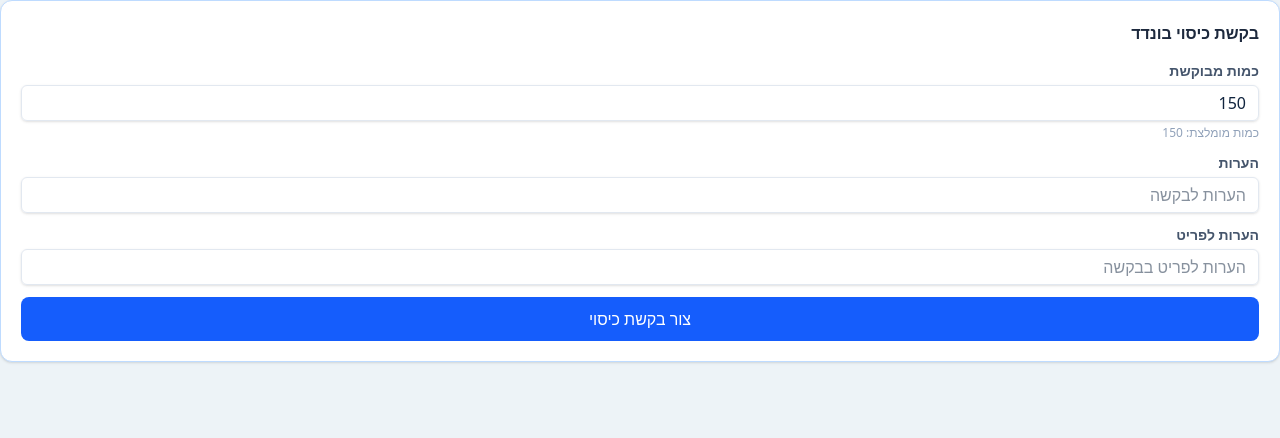
it: BondedRequestCreateCard › shows error message when create fails
The image size is (1280, 438).
Step 1. Click the button "צור בקשת כיסוי" → [640, 319], box [21, 297, 1259, 341]
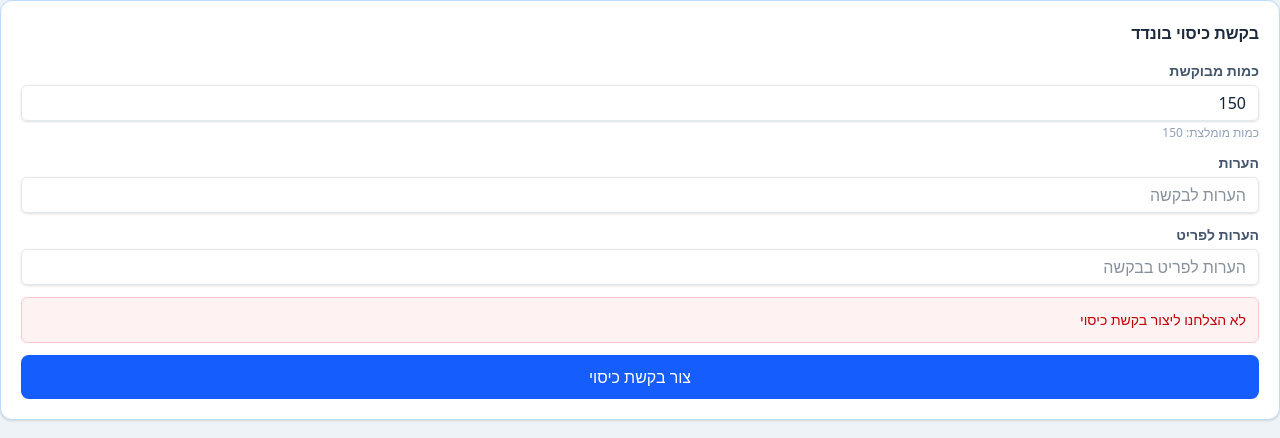
Result: the text "לא הצלחנו ליצור בקשת כיסוי" is shown at [21, 297, 1259, 343]
